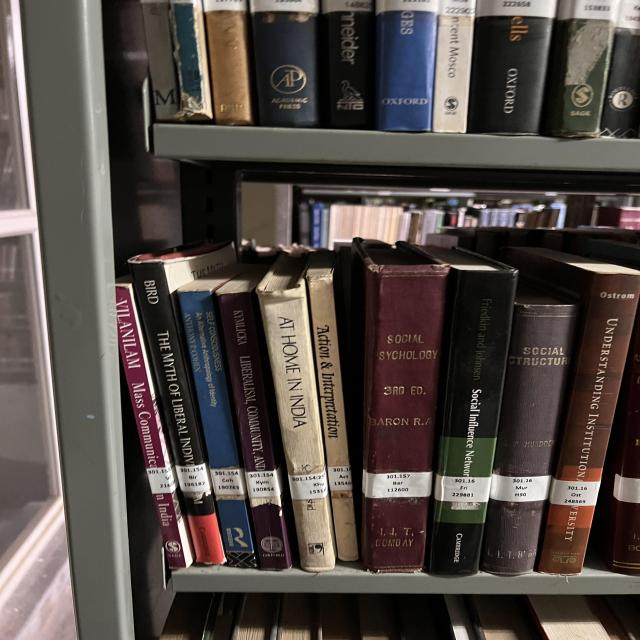Book: (502, 248, 640, 575), (128, 242, 235, 564), (353, 240, 450, 572), (425, 248, 518, 576), (480, 289, 578, 575), (257, 255, 335, 572), (177, 264, 257, 568), (215, 265, 292, 570), (115, 282, 193, 568), (307, 250, 358, 561)
Label: (363, 470, 432, 499), (490, 474, 552, 502), (435, 475, 492, 502), (550, 479, 600, 506), (288, 470, 328, 500), (245, 470, 282, 498), (175, 464, 210, 492), (210, 469, 245, 495), (147, 465, 177, 494), (327, 465, 352, 491)
